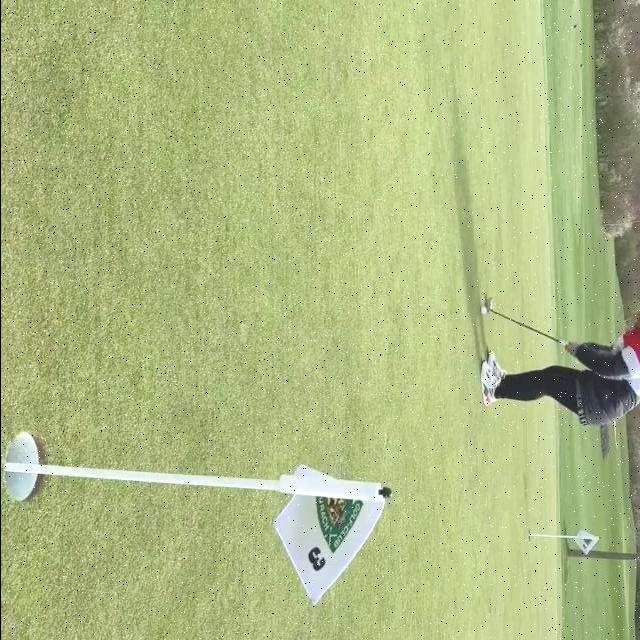ClubHandle: (484, 296, 570, 347)
ClubHead: (483, 298, 491, 314)
GolfBall: (480, 306, 486, 315)
